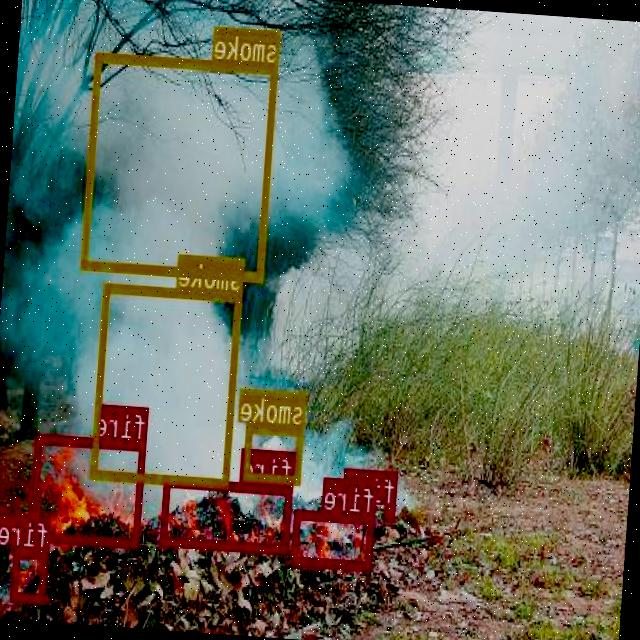fire: (29, 432, 148, 547), (162, 476, 292, 552), (292, 508, 376, 570), (12, 546, 49, 602), (386, 504, 397, 518)
smoke: (82, 51, 278, 281), (91, 282, 242, 487), (243, 422, 304, 482)
